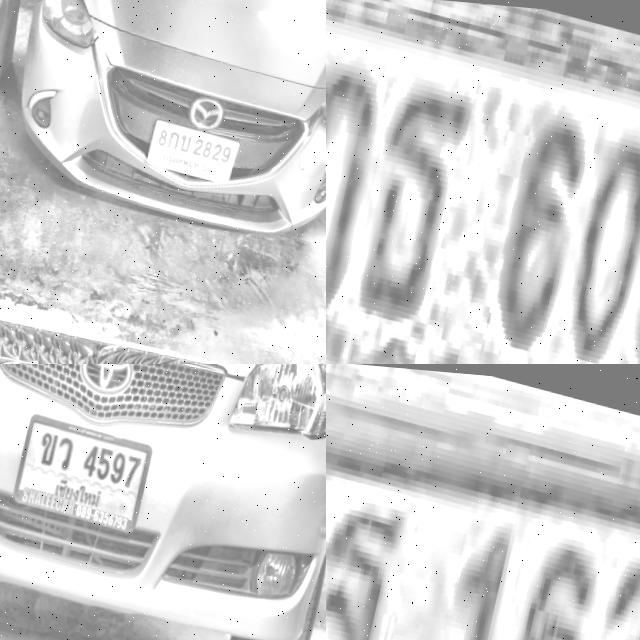license-plate: (326, 0, 640, 364), (326, 364, 640, 640), (10, 395, 160, 541), (147, 111, 240, 181)
